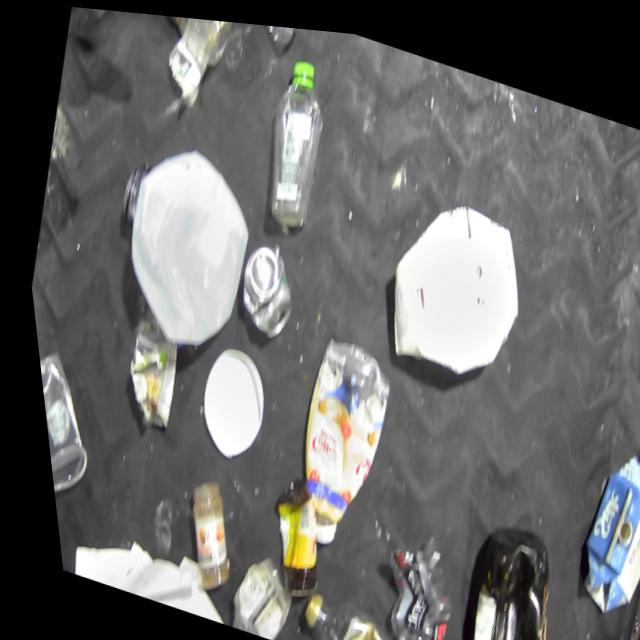can: (219, 227, 300, 341), (107, 150, 151, 227)
milk_jug: (90, 122, 273, 364)
non_white_jug: (425, 499, 565, 640)
plastic_bottle: (238, 40, 345, 234), (276, 578, 420, 640), (130, 10, 242, 68), (219, 17, 308, 51)
